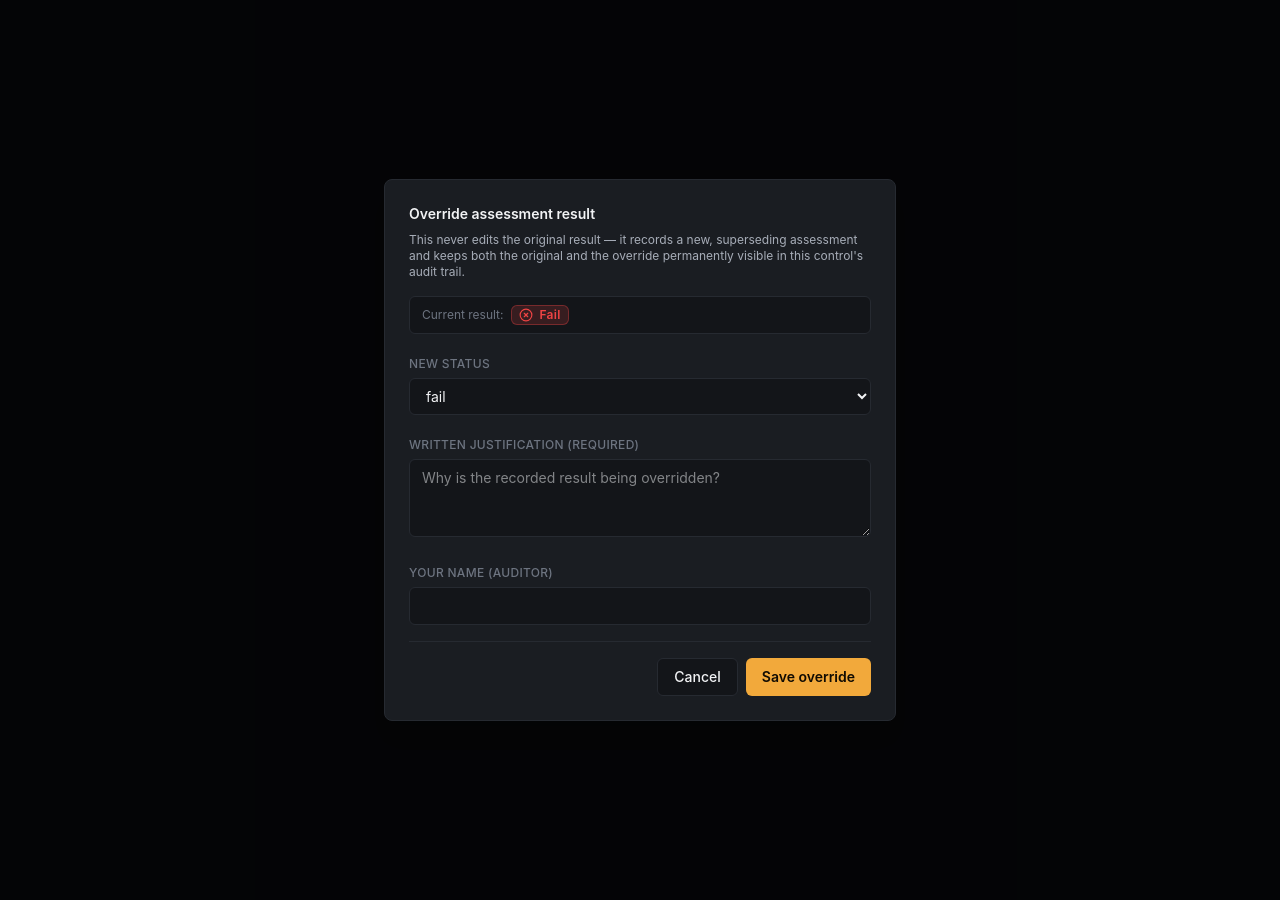
Test case: OverrideAssessmentDialog › requires the auditor's name before submitting
Type "risk accepted after review" into the text box labelled "Written justification". click: (640, 498)
box: [409,459,871,537]
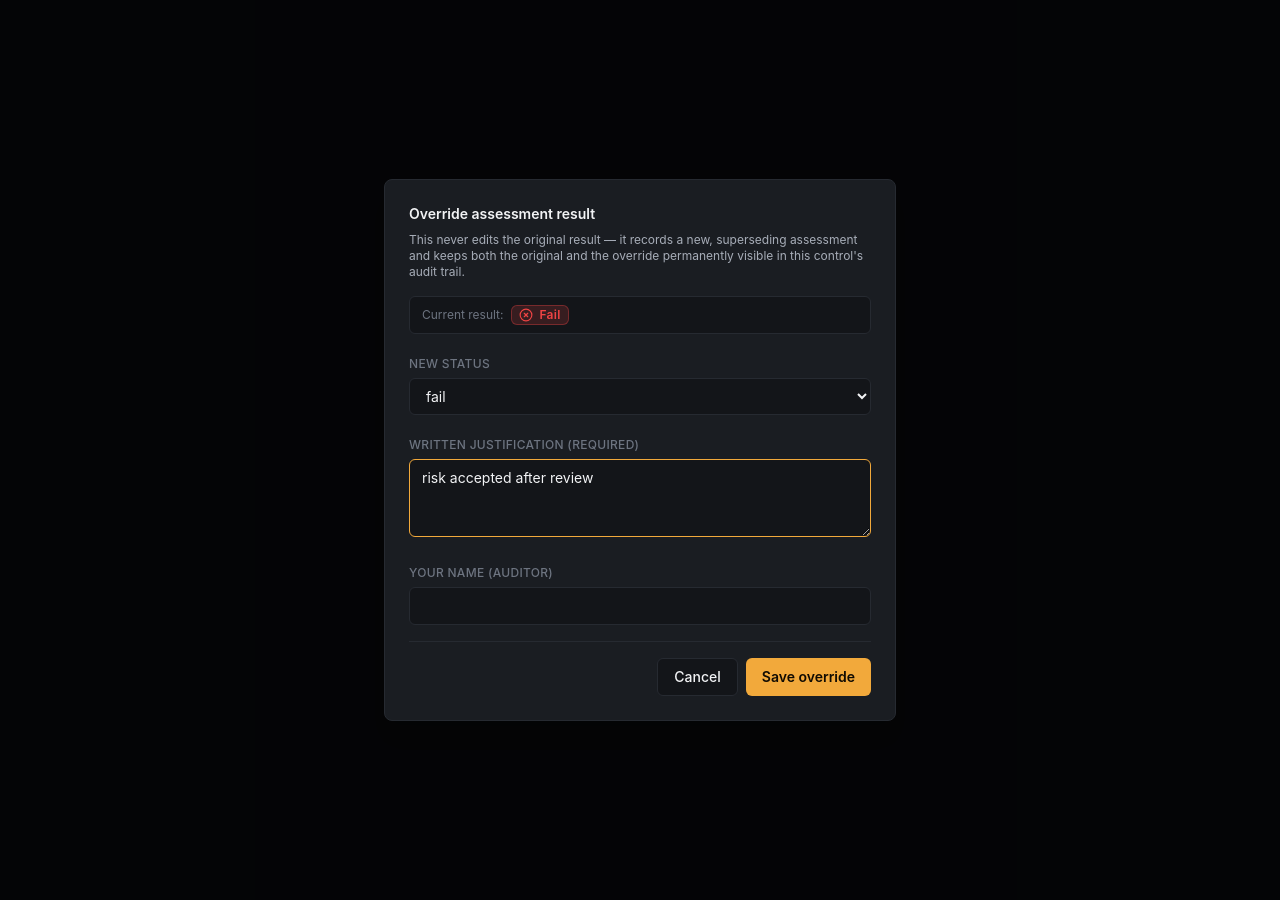
Click the button "Save override". click: (808, 677)
box: [746,658,871,696]
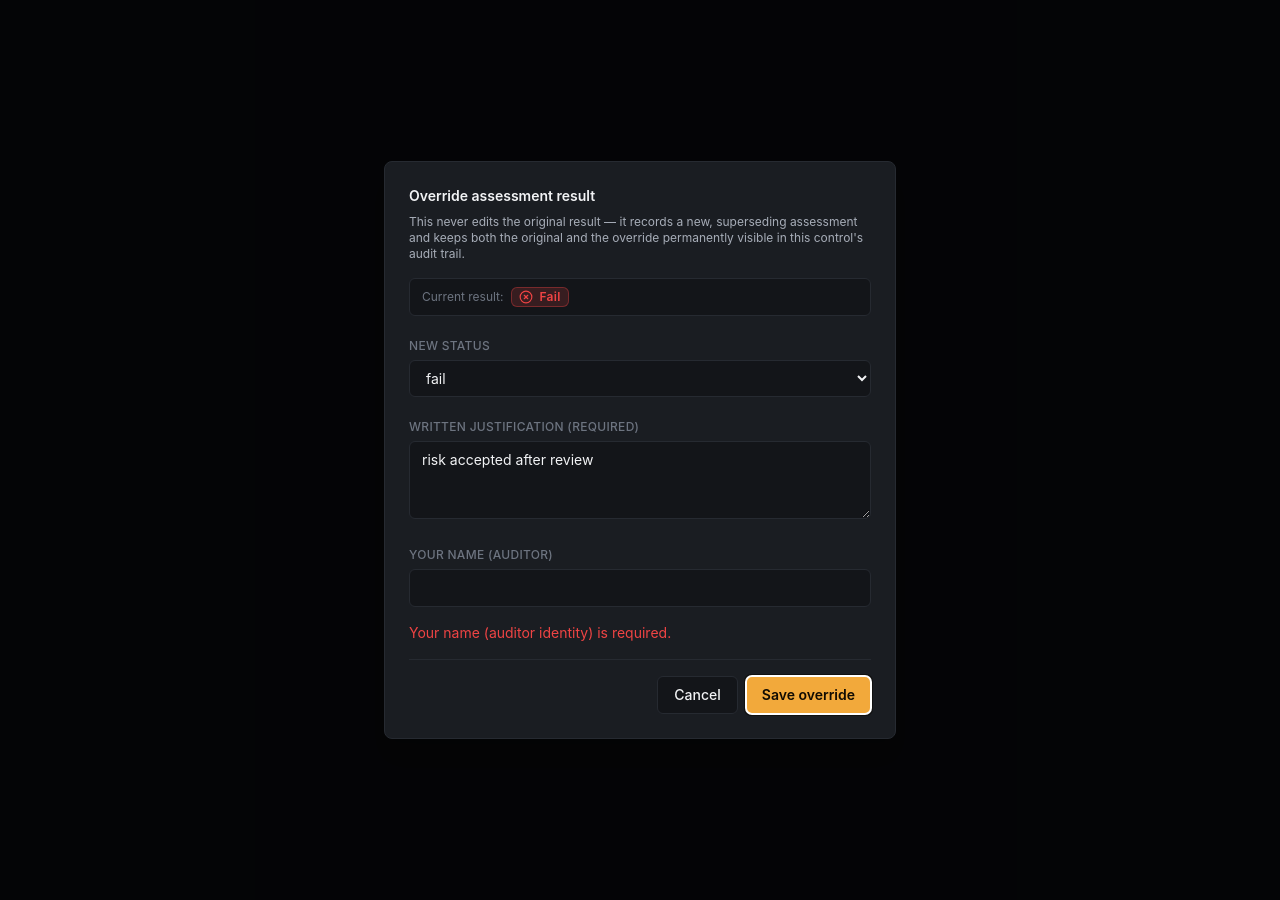
Expected: the text "Your name (auditor identity) is required." is shown, [409,624,671,641]
